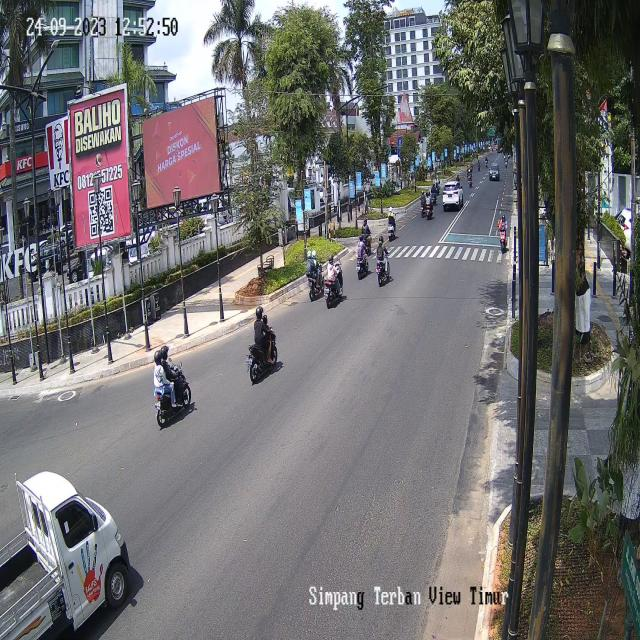car: (443, 181, 463, 213)
motorcycle: (152, 344, 194, 424), (245, 299, 277, 386), (306, 243, 323, 304), (326, 253, 342, 309), (374, 235, 388, 290), (360, 215, 372, 263), (356, 234, 368, 278), (497, 212, 510, 252), (385, 203, 396, 240), (426, 188, 433, 223), (420, 190, 428, 216)
truck: (0, 467, 132, 640)
